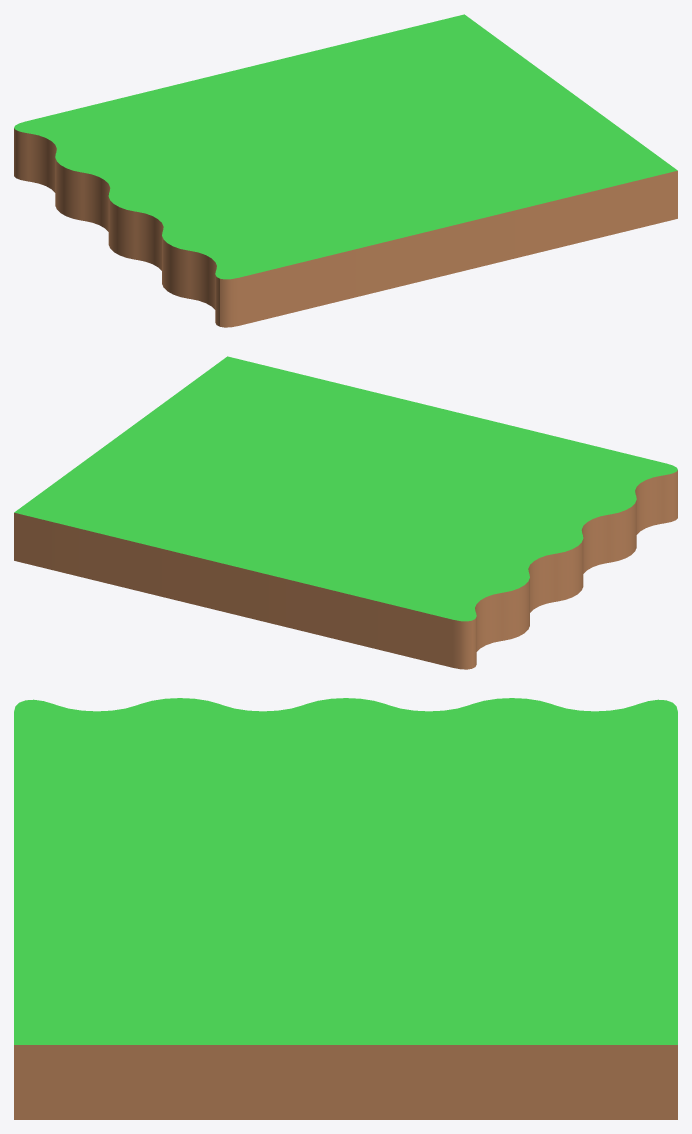
The model's file is Hill001.fbx.
3 views of the same model, one above another, from view 1: azimuth 30°, elevation 25°; view 2: azimuth 150°, elevation 25°; view 3: azimuth 270°, elevation 25° (orthographic). The views are drawn at different scales.
Parts seen in each view (by area): view 1: Hill001; view 2: Hill001; view 3: Hill001.
Part boxes in pixels (x1=…): Hill001: x1=14, y1=14, x2=677, y2=327; Hill001: x1=14, y1=356, x2=677, y2=669; Hill001: x1=14, y1=698, x2=677, y2=1119.
Size of the model in its own units: 1988 by 200 by 1607.
